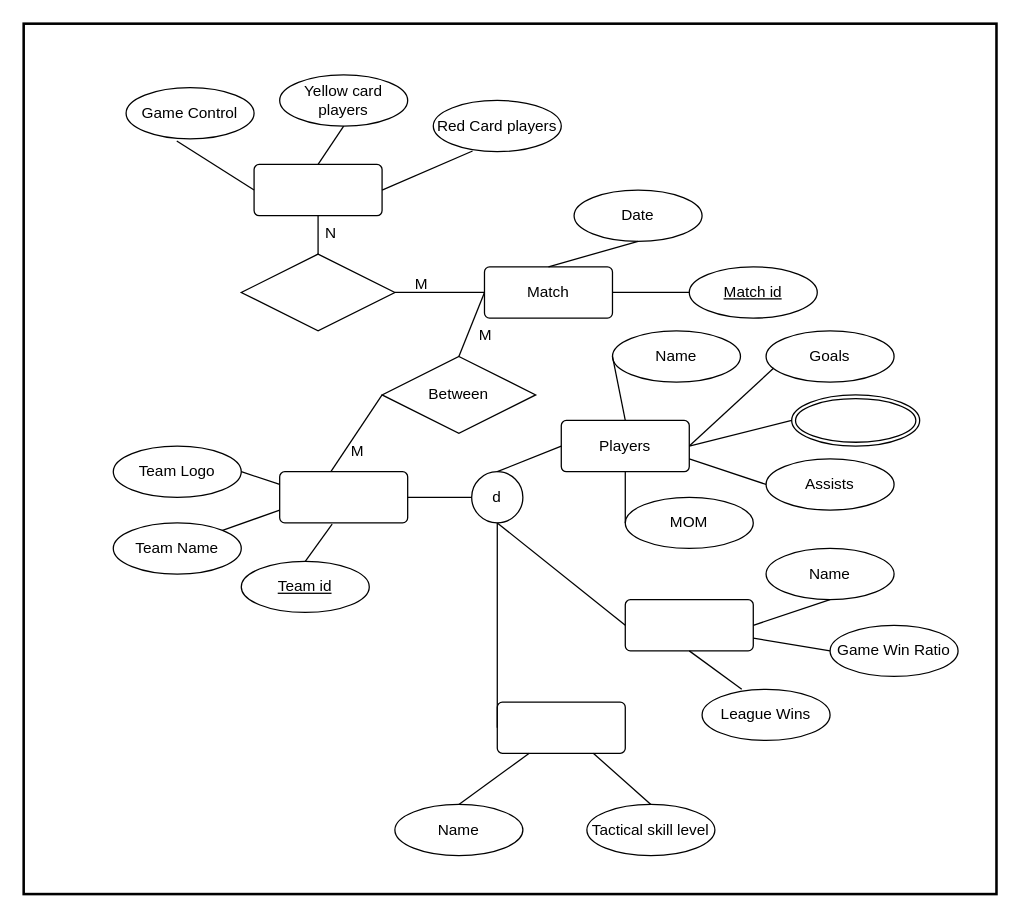
Some shapes in this 1019 by 916 pixel diagram are drawn without their labels. The shapes that lost their labels are listed below. From the top down, each one's box as (x1, y1, x2, y2) in pixels, then its label:
(253, 163, 382, 216): Refree
(240, 253, 395, 331): has
(790, 394, 920, 446): Position
(278, 470, 408, 523): Team
(624, 598, 753, 651): Coach
(496, 701, 625, 753): Managers
